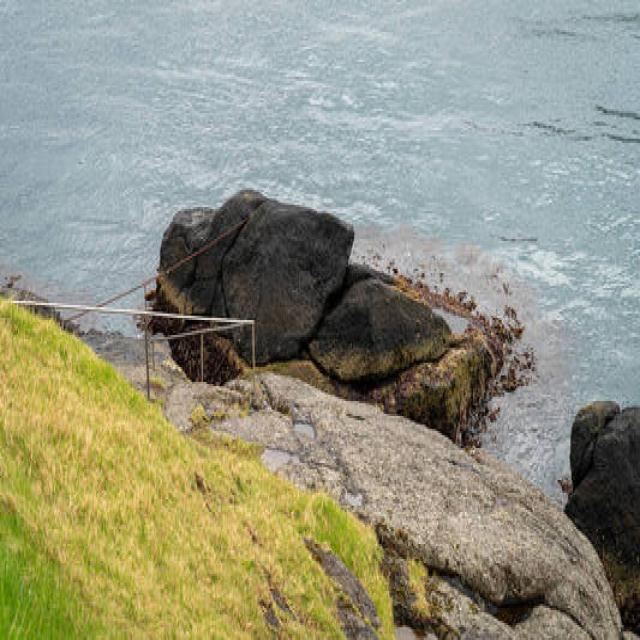reef: (164, 179, 622, 516)
